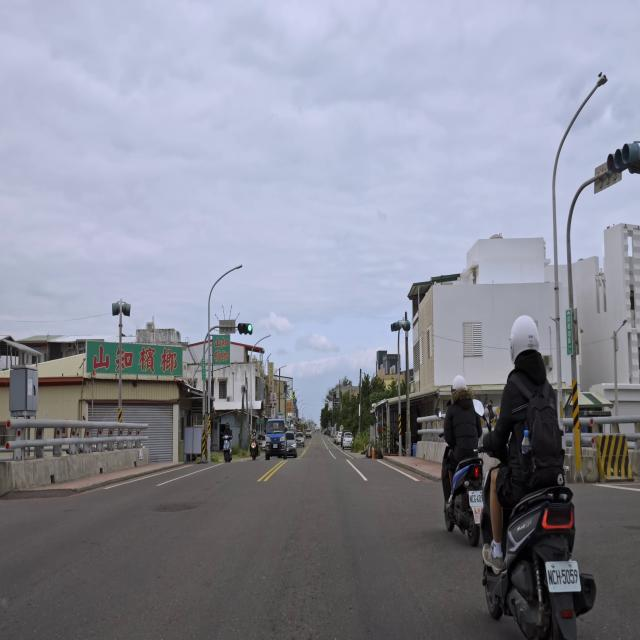green light: (238, 322, 252, 334)
